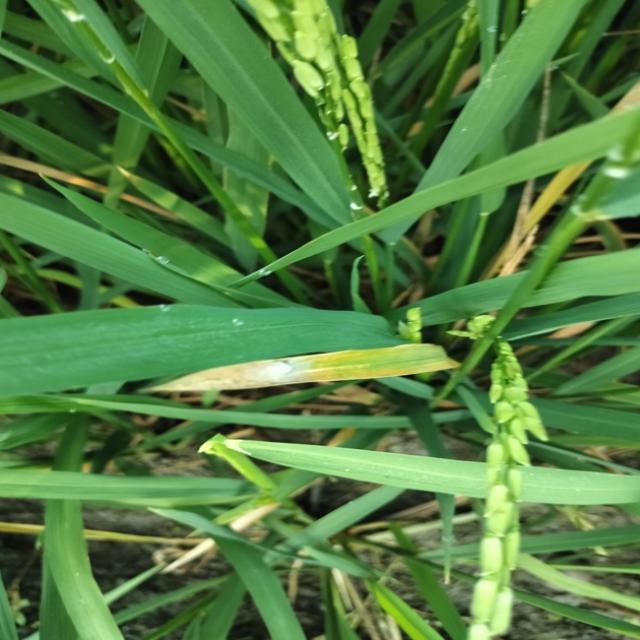healthy: (128, 338, 452, 405)
